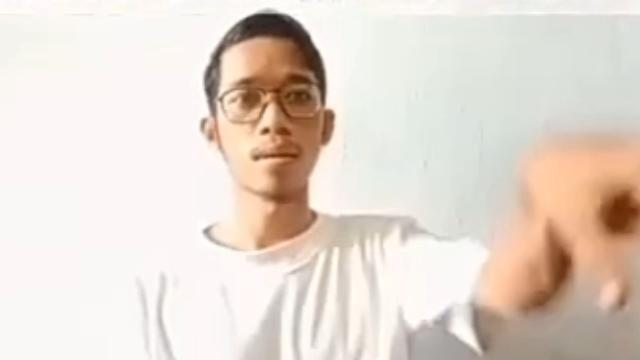Q: (510, 121, 640, 317)
